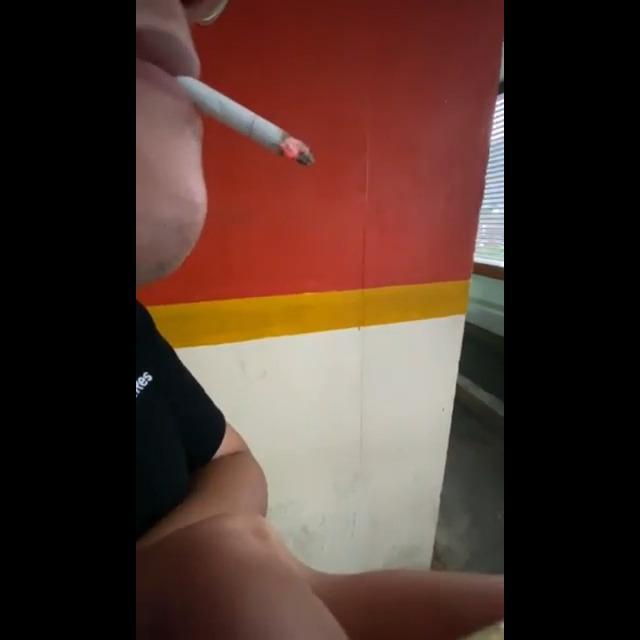rokok: (175, 72, 317, 170)
